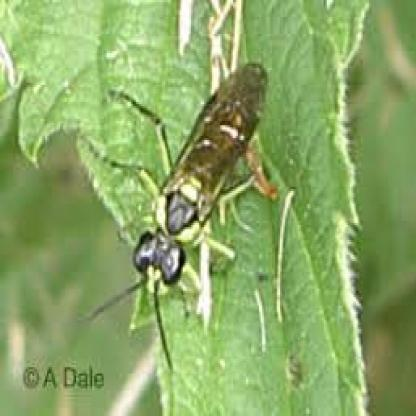sawfly: (88, 55, 289, 376)
